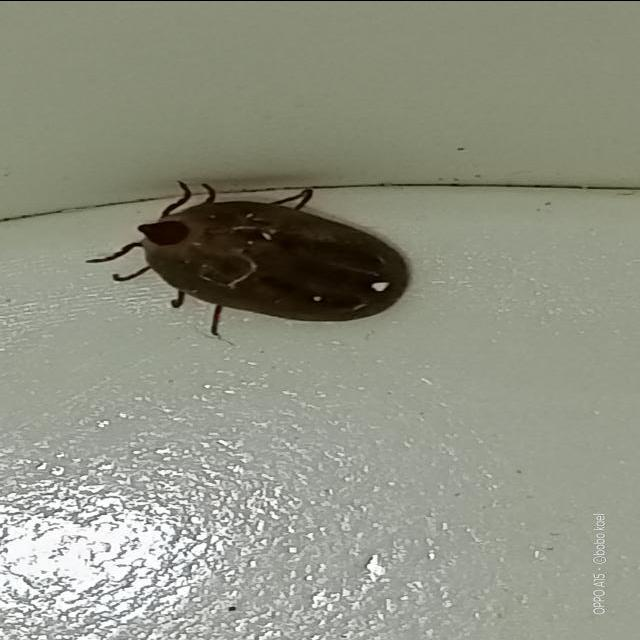Rhipicephalus Sanguineus-F-Fed: (85, 179, 412, 337)
